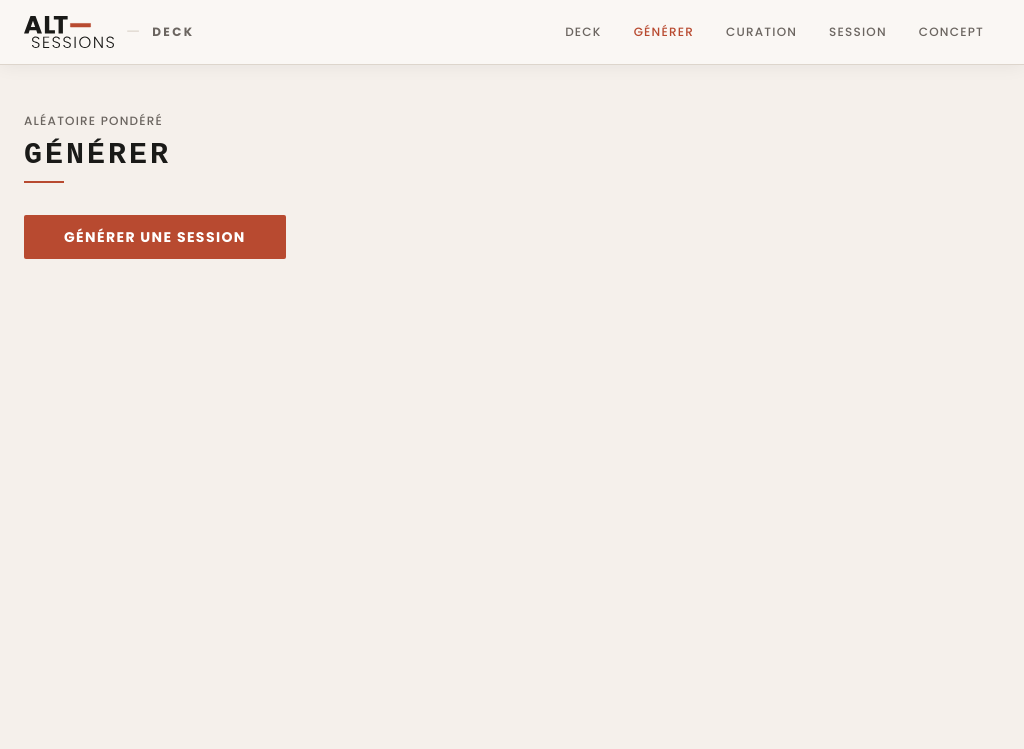
Test: Generate page › can add a third card
The width and height of the screenshot is (1024, 749).
Click the button "GÉNÉRER UNE SESSION" at (155, 237), box [24,215,286,259]
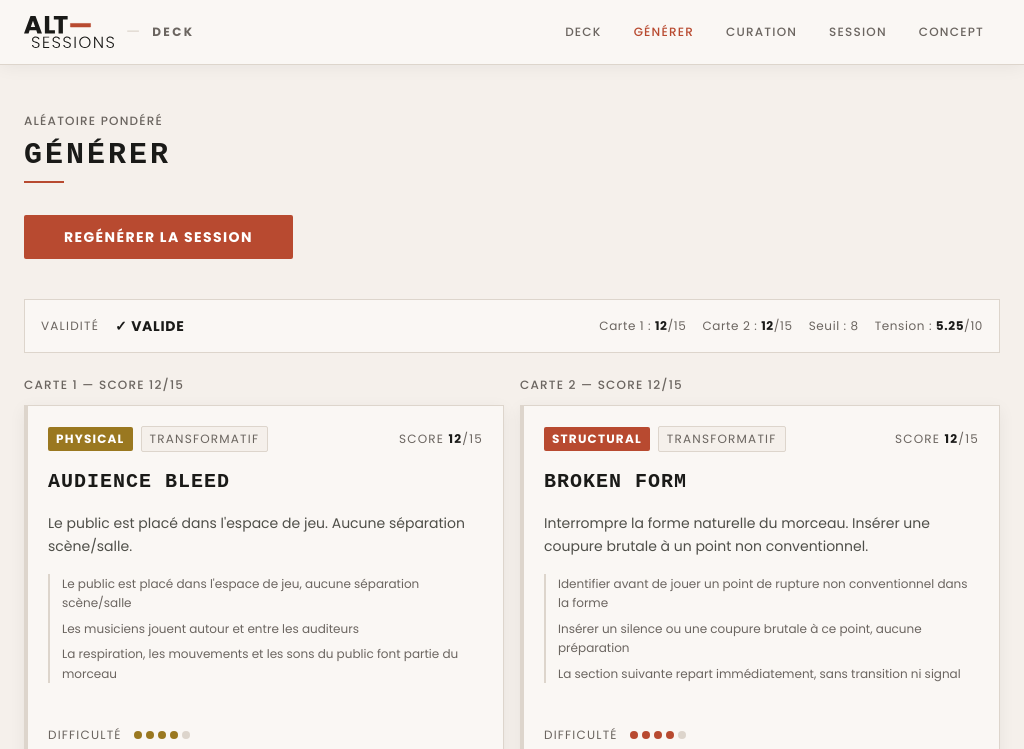
Scroll
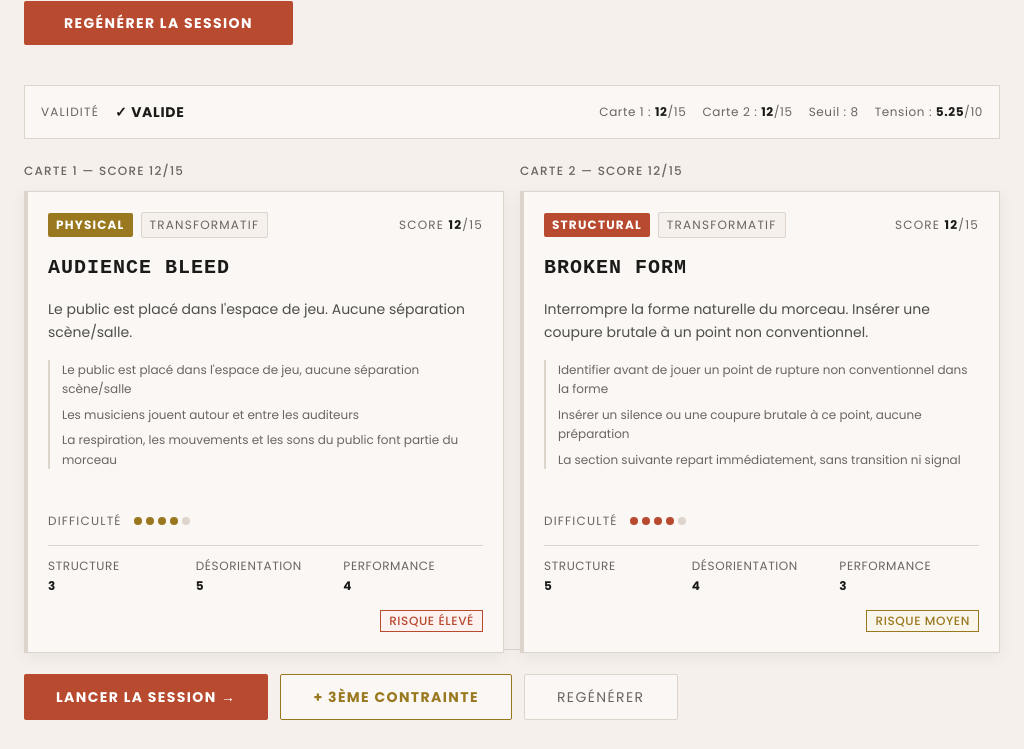
Click the button "+ 3ÈME CONTRAINTE" at (397, 697), box [281,674,512,720]
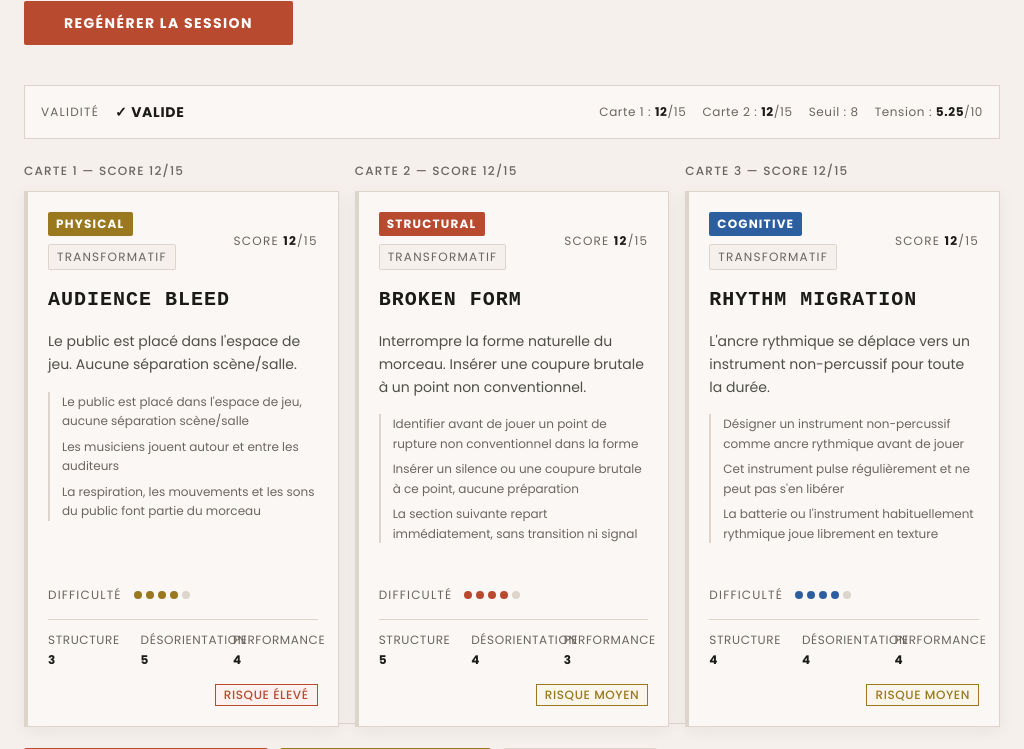
Expected: the text "Carte 3" is shown, [685,162,813,179]
